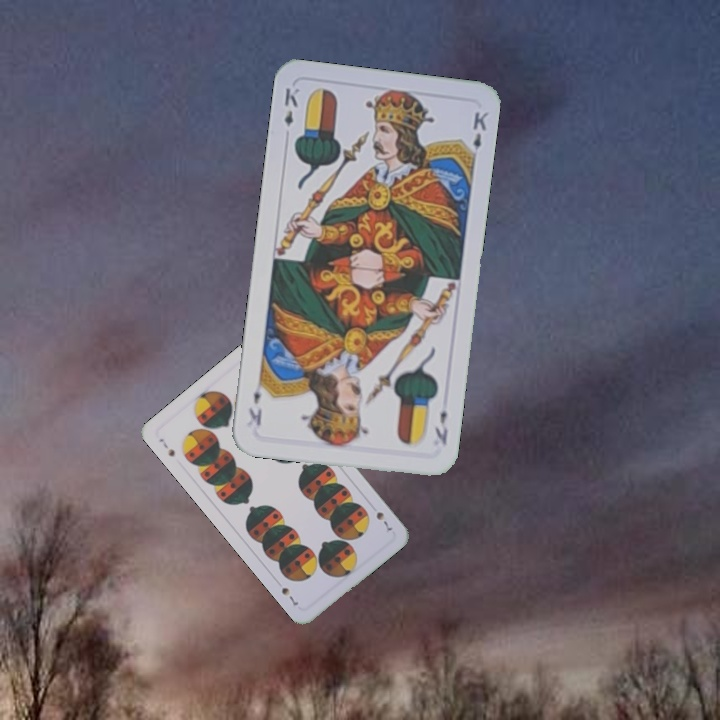EK: (280, 84, 302, 129), (430, 406, 451, 448)
S7: (372, 508, 395, 534), (155, 434, 178, 459)
